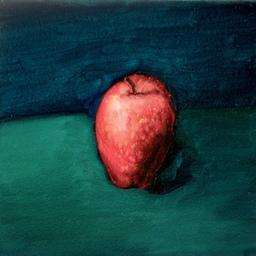apple: (93, 74, 177, 191)
